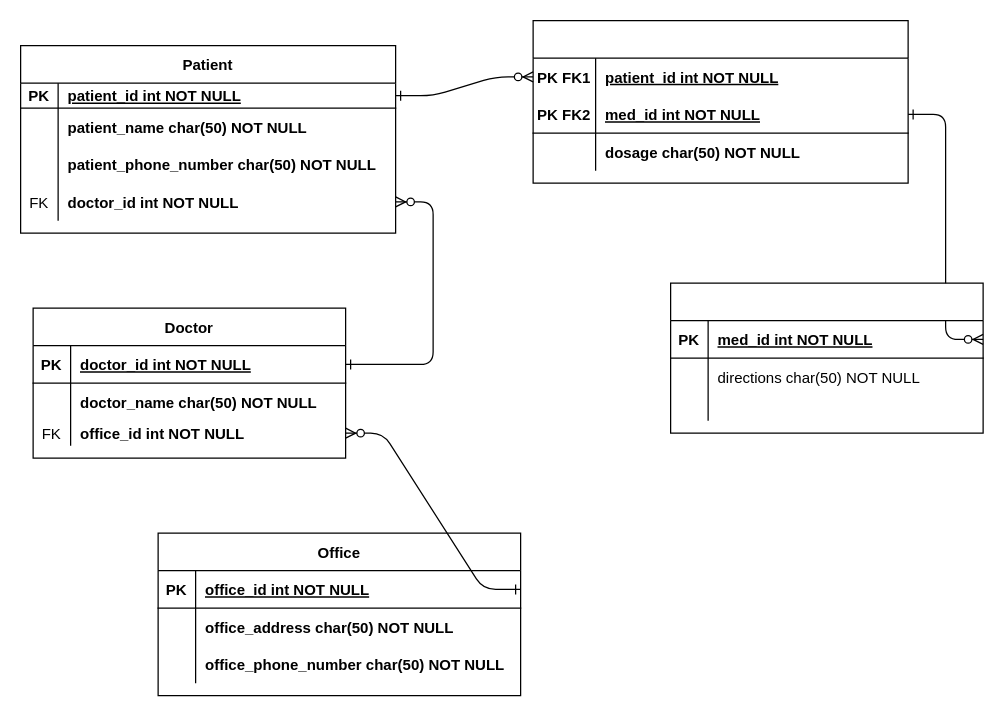
This 1004x716 diagram has some shape labels left out. The box of each missing label's shape, as (x1, y1, x2, y2) in pixels:
Medication: (669, 282, 983, 433)
PatientMedications: (532, 19, 908, 183)
